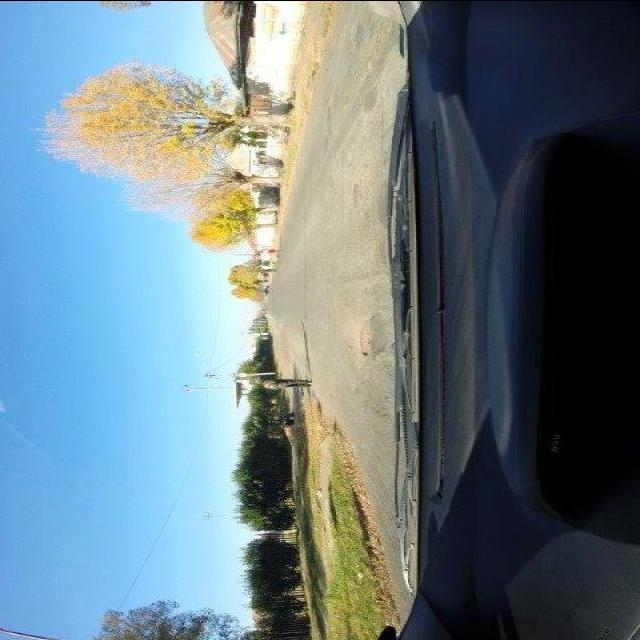lubang: (358, 22, 393, 85), (357, 320, 371, 358)
